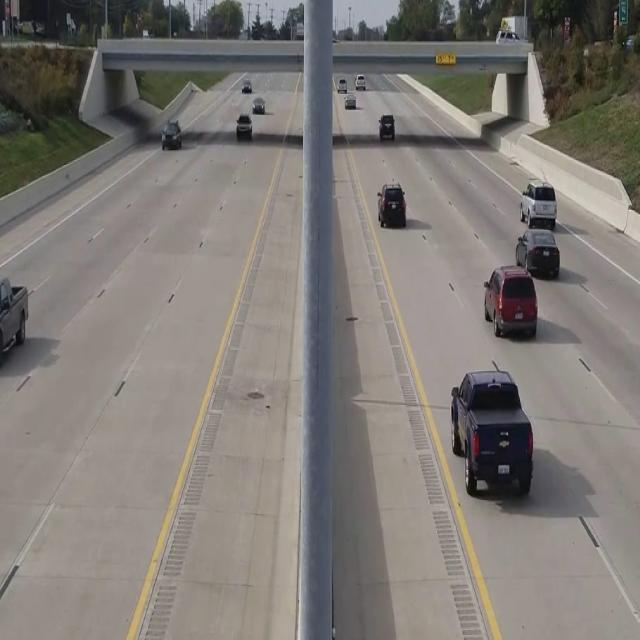car: (483, 264, 537, 338), (0, 275, 29, 371), (515, 229, 560, 279), (520, 182, 556, 228), (377, 182, 406, 226), (161, 118, 182, 150), (236, 112, 251, 138), (378, 114, 394, 138), (251, 96, 265, 112)
